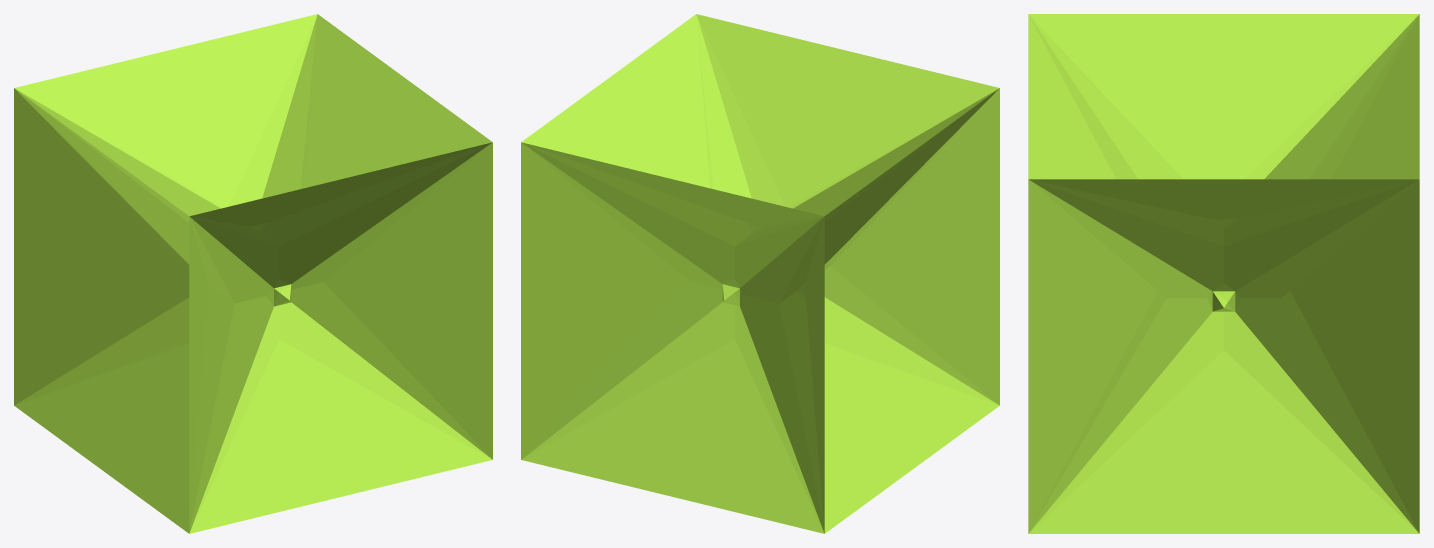
The model's file is 06_Excavated_Cube.obj.
3 renders of one model, left to right at view 1: azimuth 30°, elevation 25°; view 2: azimuth 150°, elevation 25°; view 3: azimuth 270°, elevation 25°, orthographic. The views are drawn at different scales.
Size of the model in its own units: 1 by 1 by 1.
